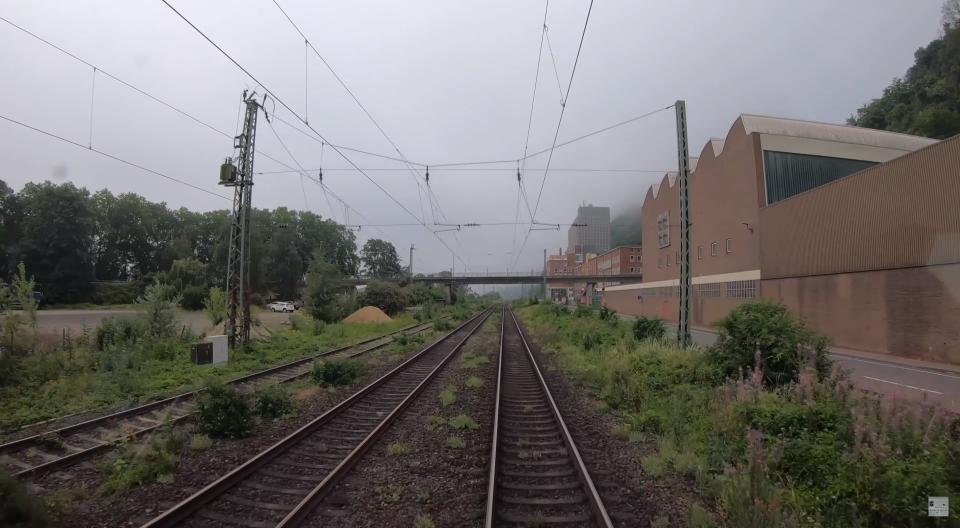Plant: (96, 359, 367, 495), (544, 344, 692, 477), (688, 429, 818, 528), (358, 310, 479, 366), (0, 470, 74, 528), (516, 306, 558, 352), (460, 351, 489, 369), (450, 414, 478, 429), (482, 311, 500, 332), (413, 514, 435, 528), (426, 415, 446, 430), (440, 387, 456, 405), (386, 442, 408, 455), (651, 516, 671, 528), (446, 436, 464, 449), (466, 375, 484, 387)
